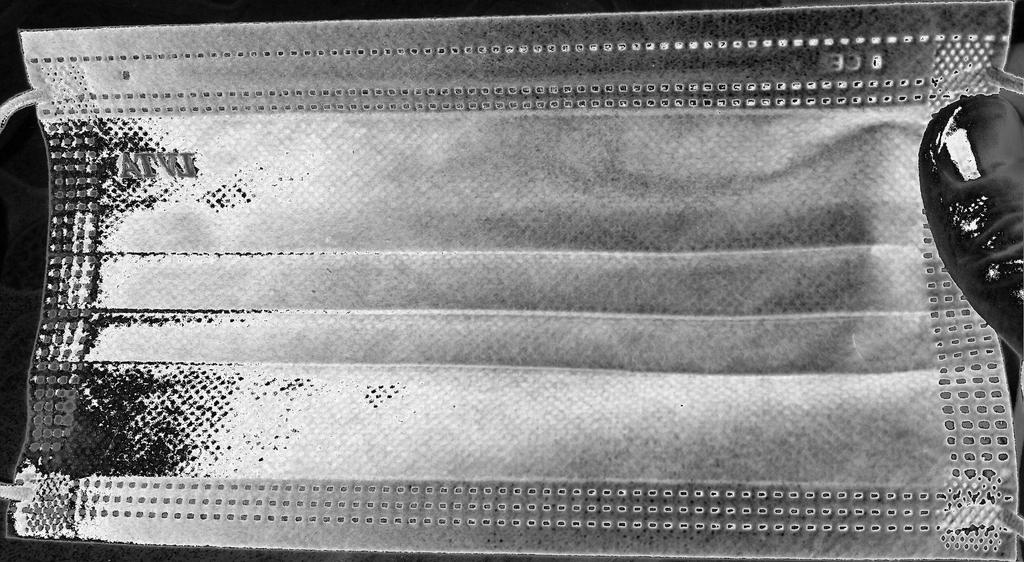High GSM: (18, 100, 917, 485)
